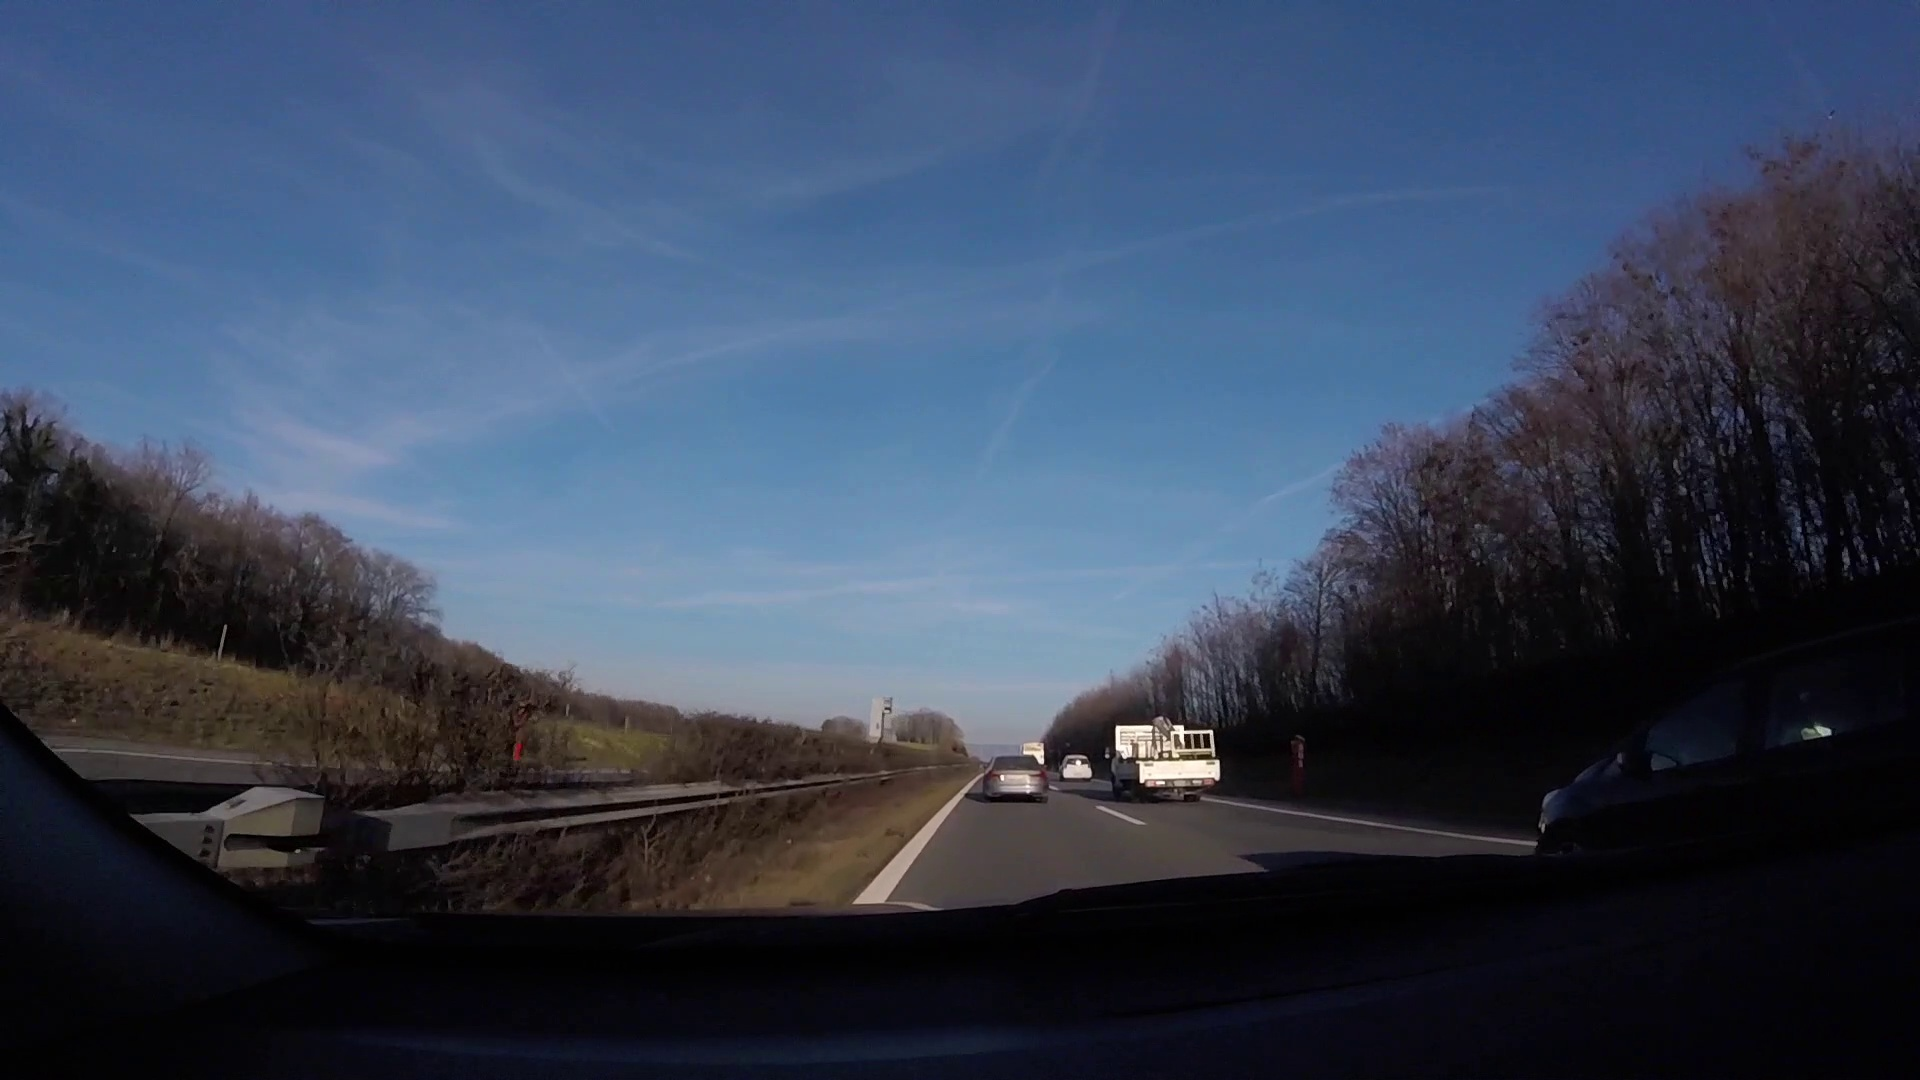radar: (868, 696, 895, 746)
